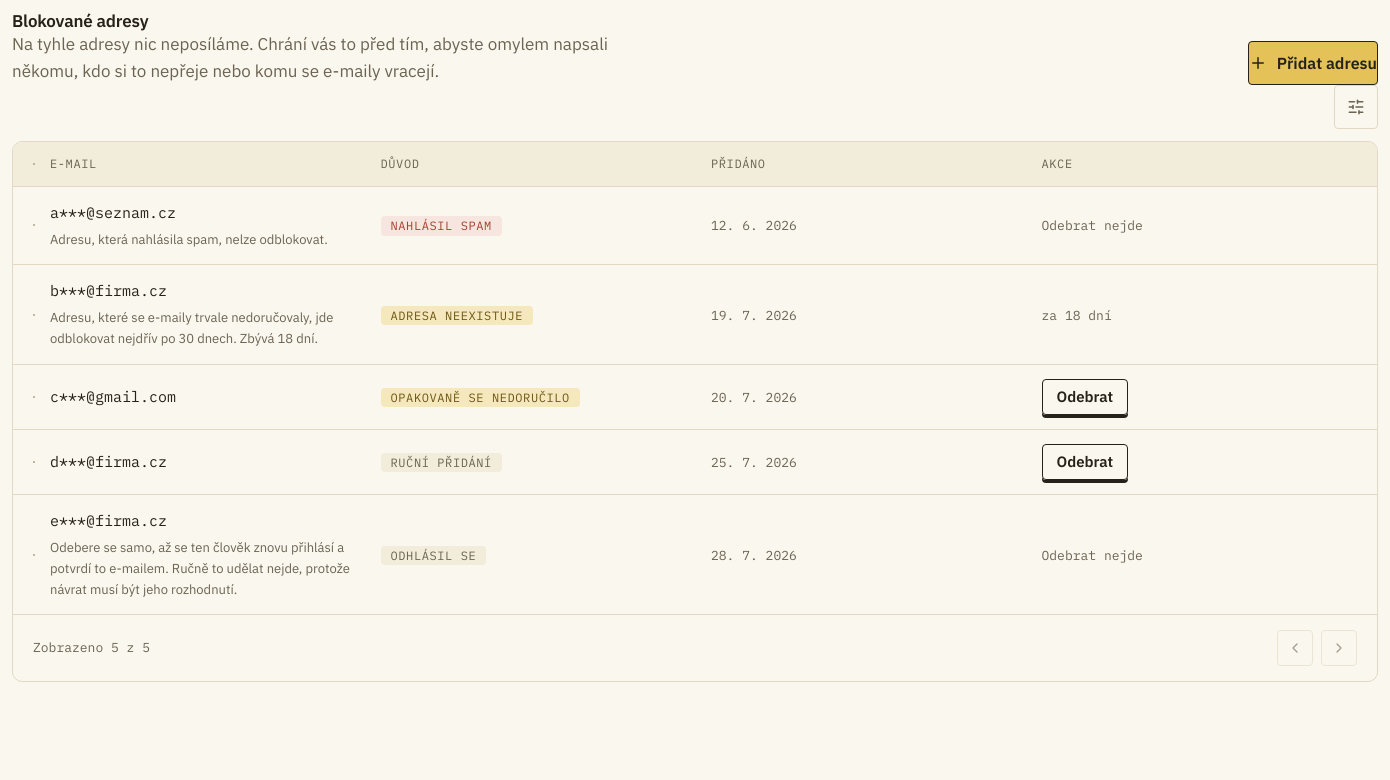
Scenario: SuppressionsTable › u čistého výběru žádné vysvětlení nepřidává
Click the 4th checkbox named "Vybrat adresu". click: point(34, 462)
box: [33, 461, 35, 463]
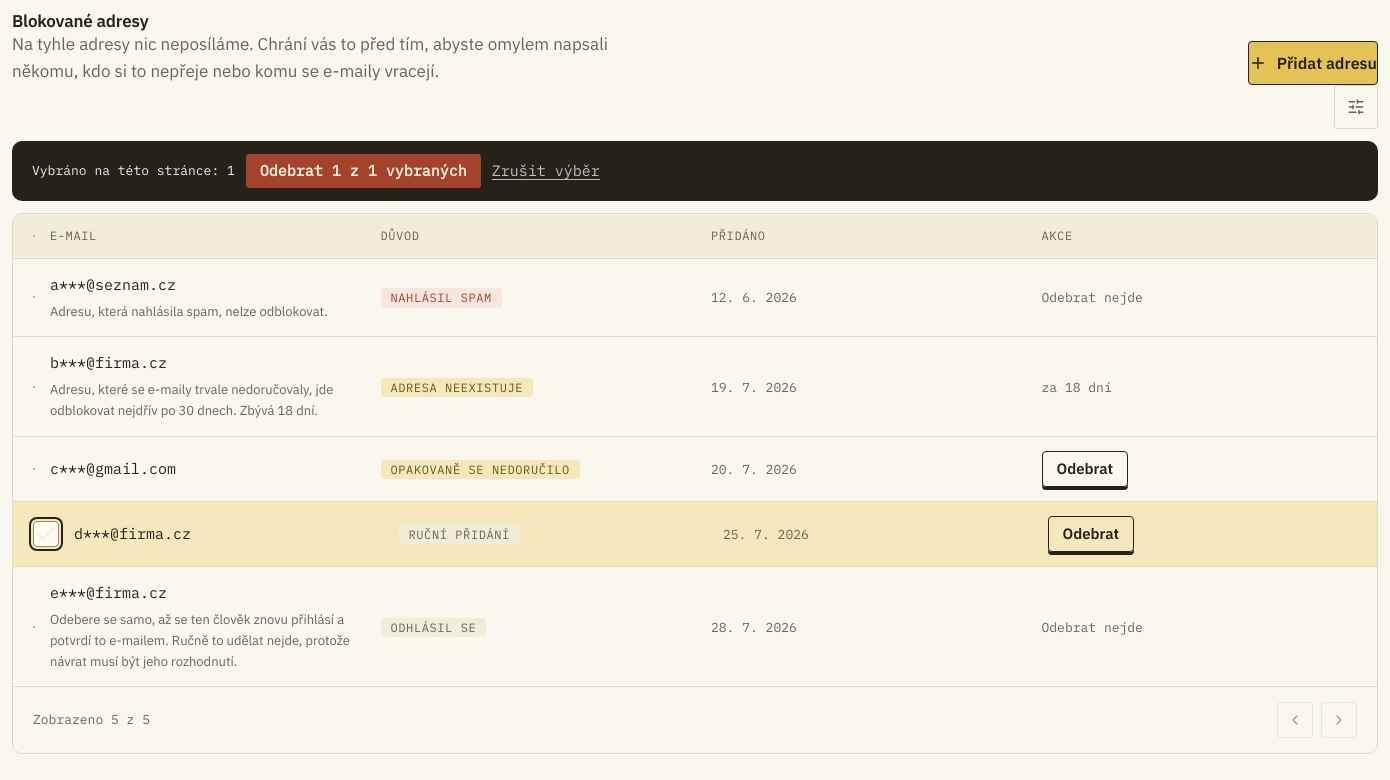
Expected: the element with test id "suppressions-bulk" does not show "odebrat nejde", [245, 153, 482, 189]
Result: the button "Odebrat 1 z 1 vybraných" is shown at [245, 153, 482, 189]
